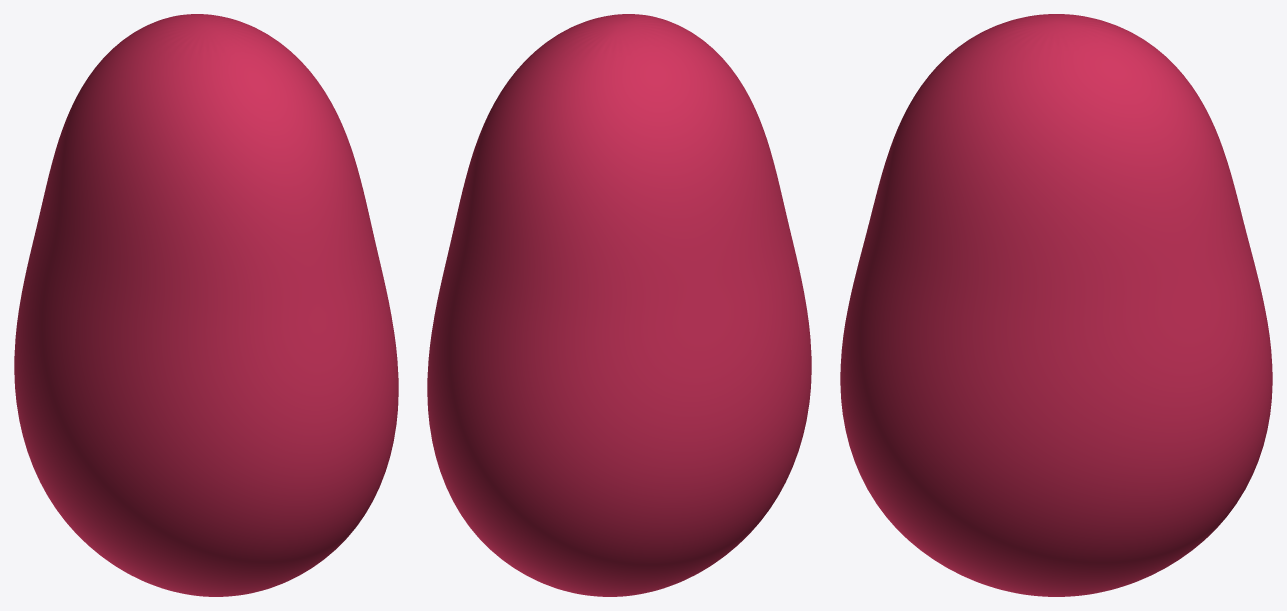
Rendered from nose1.obj.
The picture shows the model from 3 angles, left to right: view 1: azimuth 30°, elevation 25°; view 2: azimuth 150°, elevation 25°; view 3: azimuth 270°, elevation 25°; orthographic projection.
Parts seen in each view (by area): view 1: nose1_Sphere.002; view 2: nose1_Sphere.002; view 3: nose1_Sphere.002.
Part boxes in pixels (x1,y1,x2,y2): nose1_Sphere.002: (14,14,398,596); nose1_Sphere.002: (427,14,811,596); nose1_Sphere.002: (840,14,1272,596).
Bounding box in the file's own units: 0.2128 × 0.3524 × 0.2464.
